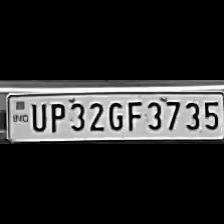2: (86, 98, 104, 132)
3: (66, 98, 86, 132), (180, 98, 200, 130), (144, 97, 162, 131)
5: (200, 96, 220, 130)
7: (163, 98, 181, 132)
F: (124, 98, 142, 132)
G: (105, 98, 125, 132)
P: (46, 100, 66, 132)
U: (28, 100, 46, 132)
